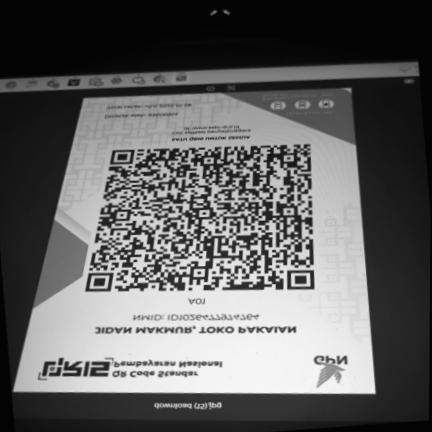Cara Pakai QRIS: (252, 88, 353, 121)
Cek Aplikasi Penyelenggara: (169, 123, 257, 136)
Dicetak Oleh: (102, 111, 182, 120)
Logo GPN: (308, 351, 356, 390)
Logo dan deskripsi QRIS: (32, 355, 232, 386)
Nama Merchant: (87, 324, 304, 337)
National Merchant ID: (128, 311, 263, 323)
QR Code: (78, 140, 322, 295)
Slogan: (168, 134, 256, 143)
Terminal ID: (179, 297, 211, 308)
Versi Cetak: (102, 100, 195, 112)
